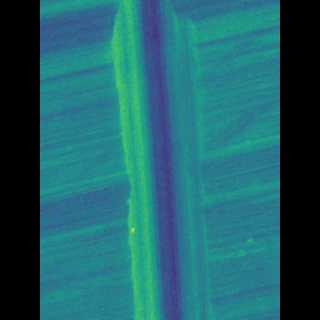Loch: (121, 0, 201, 320)
